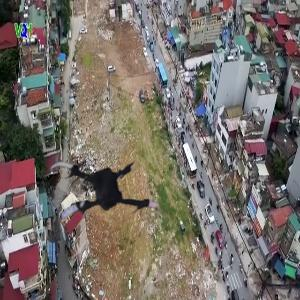drone: (40, 138, 160, 258)
